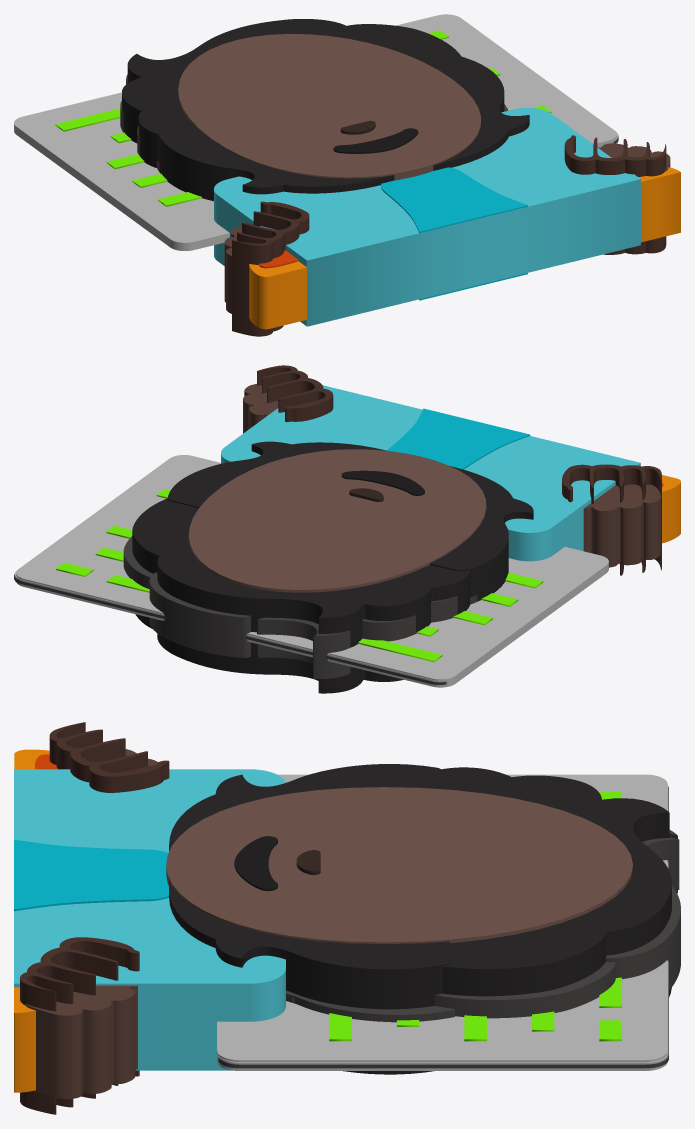
File: emoji_u1f9d1_1f3ff_200d_1f4bb.glb
3 views of the same model, one above another, from view 1: azimuth 30°, elevation 25°; view 2: azimuth 150°, elevation 25°; view 3: azimuth 270°, elevation 25° (orthographic). The views are drawn at different scales.
Visible parts, largest first — view 1: emoji_u1f9d1_1f3ff_200d_1f4bb; view 2: emoji_u1f9d1_1f3ff_200d_1f4bb; view 3: emoji_u1f9d1_1f3ff_200d_1f4bb.
Part boxes in pixels (x1,y1,x2,y2): emoji_u1f9d1_1f3ff_200d_1f4bb: (14,14,680,336); emoji_u1f9d1_1f3ff_200d_1f4bb: (14,365,680,693); emoji_u1f9d1_1f3ff_200d_1f4bb: (14,722,680,1114).
Size of the model in its own units: 0.0339 by 0.0068 by 0.0334.
